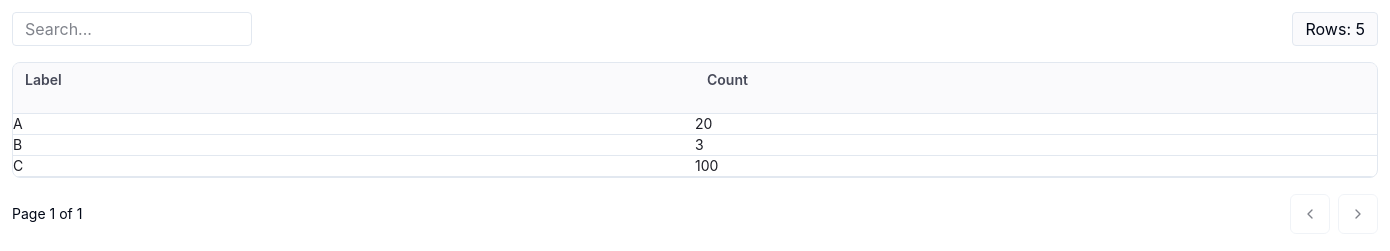
Test: Table › sorts numeric values numerically rather than lexicographically
Step 1. Click the text "Count" → [727, 80], box [707,71,748,88]
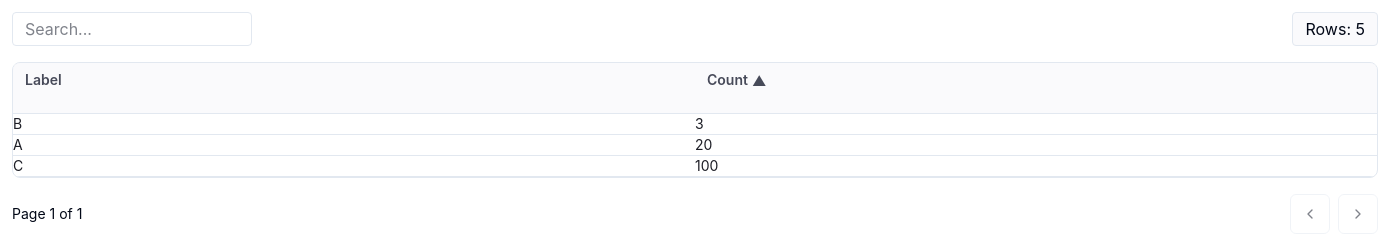
expect the row "C 100" is shown: met, box [13,155,1377,176]
expect the row "B 3" is shown: met, box [13,113,1377,134]
expect the row "A 20" is shown: met, box [13,134,1377,155]
Step 2. Click the text "Count" → [727, 80], box [707,71,748,88]
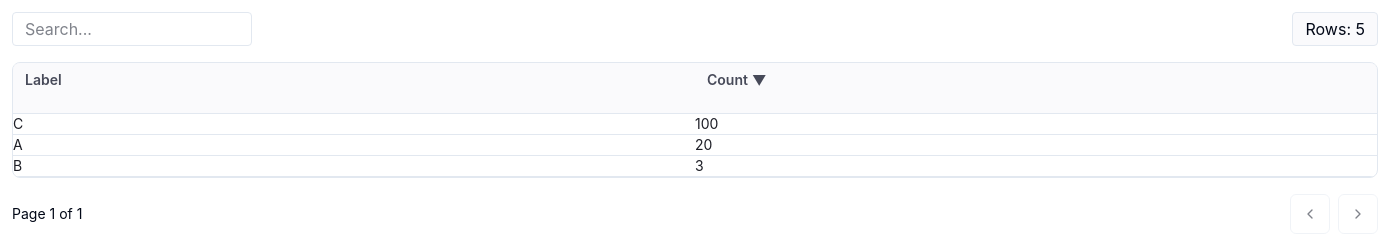
expect the row "A 20" is shown: met, box [13,134,1377,155]
expect the row "C 100" is shown: met, box [13,113,1377,134]
expect the row "B 3" is shown: met, box [13,155,1377,176]
